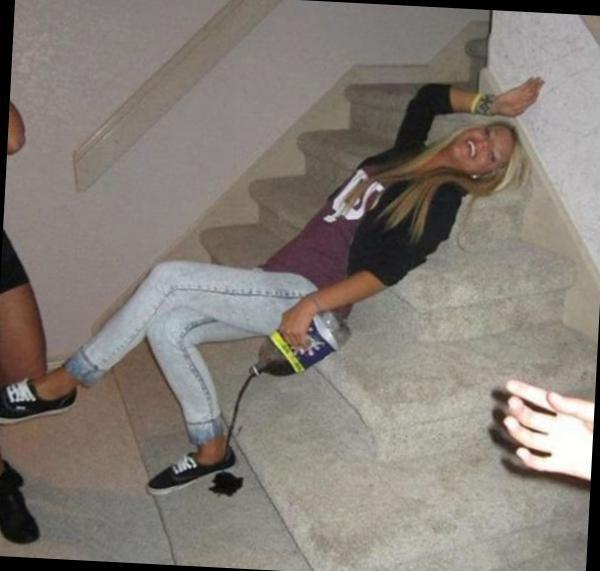Drunk: (455, 124, 508, 166)
